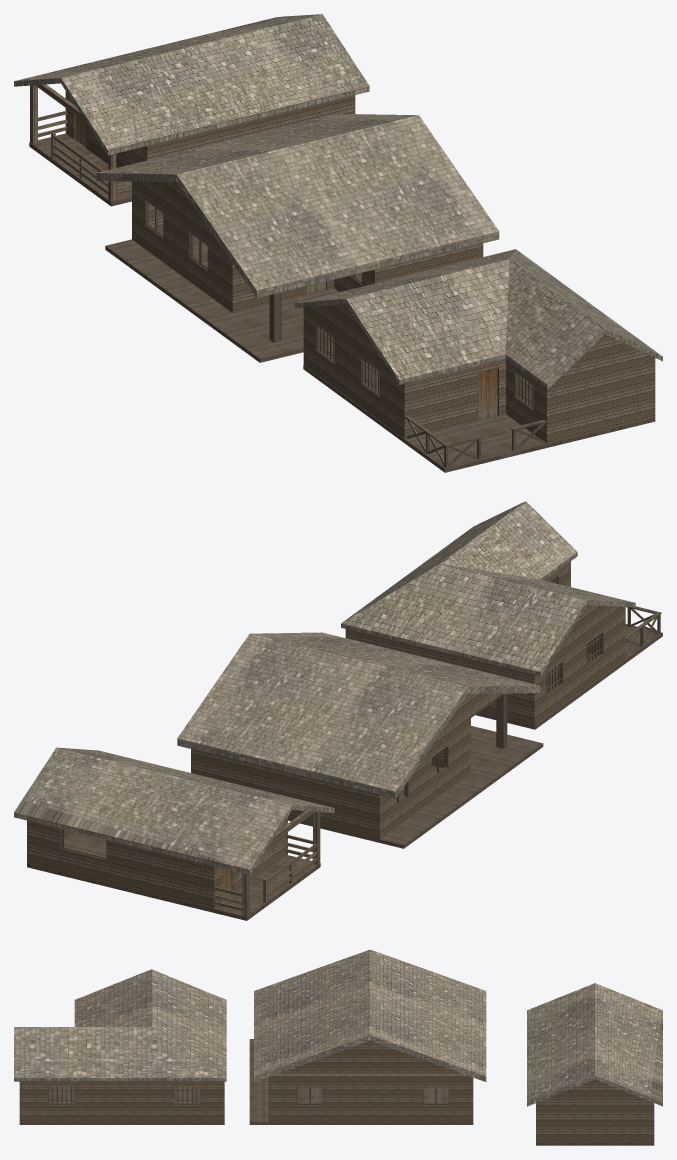
File: Cabañas.dae
3 views of the same model, one above another, from view 1: azimuth 30°, elevation 25°; view 2: azimuth 150°, elevation 25°; view 3: azimuth 270°, elevation 25° (orthographic). The views are drawn at different scales.
Visible parts, largest first — view 1: Cabaña.002, Cabaña, Cabaña.001, Cube.033; view 2: Cabaña.002, Cabaña.001, Cabaña; view 3: Cabaña.002, Cabaña, Cabaña.001.
Boxes of the visible parts, x1,y1,x2,y2 form: Cabaña.002: (96,114,499,362); Cabaña: (294,249,662,472); Cabaña.001: (14,14,369,206); Cube.033: (479,367,497,419); Cabaña.002: (177,632,543,848); Cabaña.001: (14,747,334,920); Cabaña: (341,501,662,729); Cabaña.002: (249,949,486,1124); Cabaña: (14,969,226,1124); Cabaña.001: (527,983,662,1145).
Size of the model in its own units: 30.35 by 78.18 by 12.3.
Materials: 4 (4 with a texture image).
